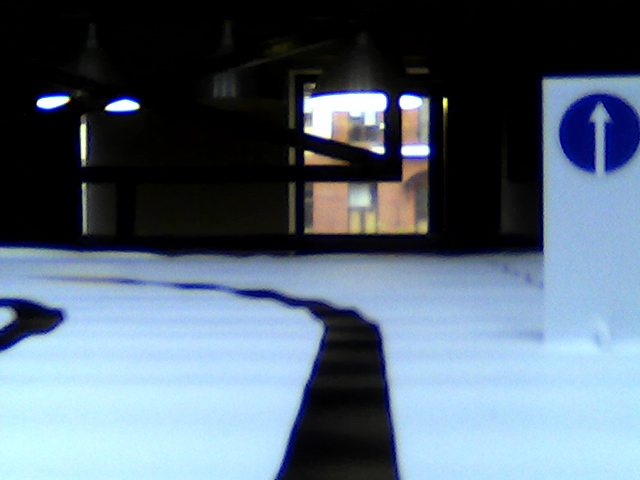forw: (558, 92, 639, 178)
